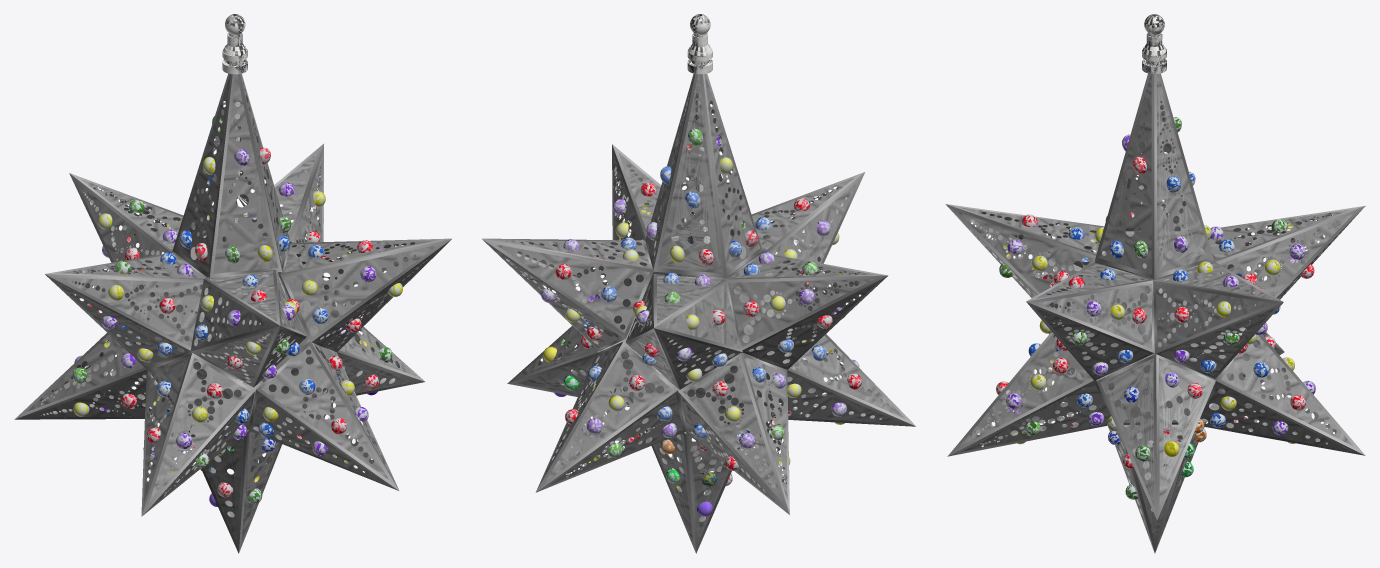
File: ESTRELLA.glb
3 views of the same model, side by side, from view 1: azimuth 30°, elevation 25°; view 2: azimuth 150°, elevation 25°; view 3: azimuth 270°, elevation 25° (orthographic).
Parts seen in each view (by area): view 1: SketchUp.002, SketchUp.001, SketchUp.103, SketchUp.142, SketchUp.134, SketchUp.139, SketchUp.019, SketchUp.145; view 2: SketchUp.002, SketchUp.001, SketchUp.103, SketchUp.139, SketchUp.134, SketchUp.142, SketchUp.019, SketchUp.145; view 3: SketchUp.002, SketchUp.001, SketchUp.103, SketchUp.134, SketchUp.139, SketchUp.142, SketchUp.019, SketchUp.145, SketchUp.003.
Boxes of the visible parts, x1,y1,x2,y2 form: SketchUp.002: (26,74,439,541); SketchUp.001: (14,73,451,553); SketchUp.103: (72,116,402,503); SketchUp.142: (73,157,402,472); SketchUp.134: (74,149,380,455); SketchUp.139: (116,174,339,437); SketchUp.019: (221,14,248,241); SketchUp.145: (72,116,318,468); SketchUp.002: (493,74,905,541); SketchUp.001: (482,73,915,553); SketchUp.103: (541,128,861,485); SketchUp.139: (583,166,826,438); SketchUp.134: (541,135,859,468); SketchUp.142: (565,157,844,464); SketchUp.019: (686,14,712,243); SketchUp.145: (539,129,818,457); SketchUp.002: (957,74,1353,541); SketchUp.001: (945,73,1365,553); SketchUp.103: (996,117,1315,499); SketchUp.134: (1006,134,1315,435); SketchUp.139: (1028,172,1280,427); SketchUp.142: (1004,146,1298,444); SketchUp.019: (1140,14,1168,243); SketchUp.145: (999,117,1287,435); SketchUp.003: (1103,232,1203,422).
Size of the model in its own units: 0.5626 by 0.7611 by 0.5405.
23 materials, 18 textured.
